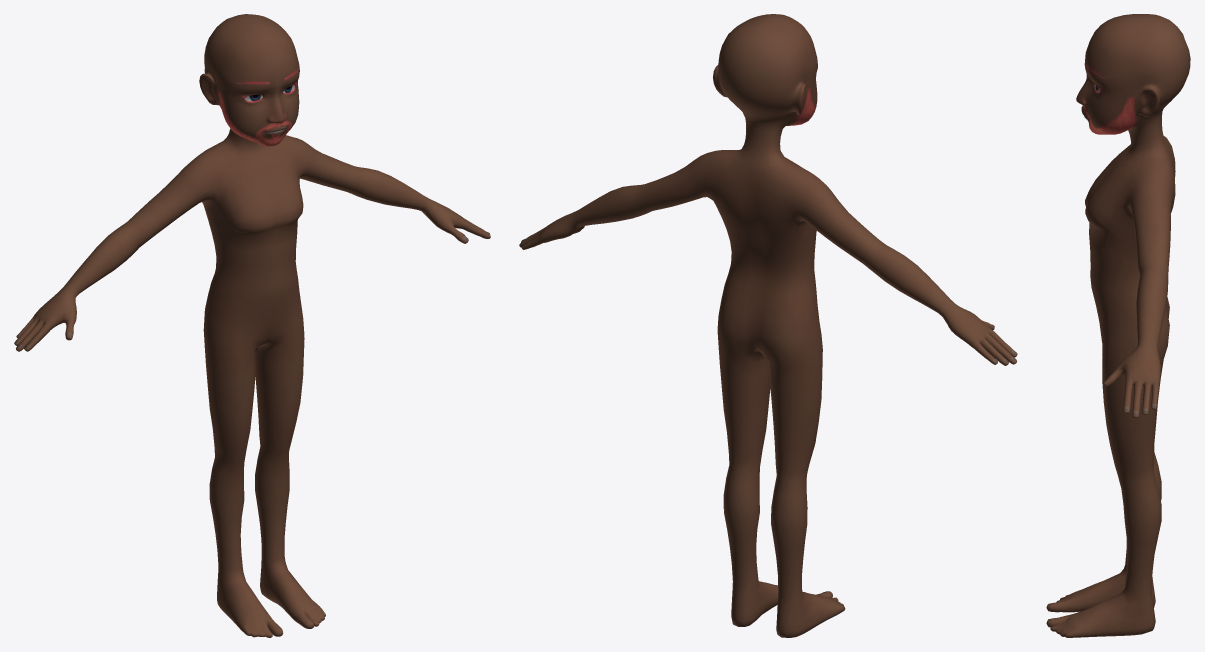
File: frame_0037.glb
The picture shows the model from 3 angles, left to right: view 1: azimuth 30°, elevation 25°; view 2: azimuth 150°, elevation 25°; view 3: azimuth 270°, elevation 25°; orthographic projection. The views are drawn at different scales.
Parts seen in each view (by area): view 1: frame_0037_head_geo; view 2: frame_0037_head_geo; view 3: frame_0037_head_geo.
Boxes of the visible parts, x1,y1,x2,y2 form: frame_0037_head_geo: [14, 14, 490, 637]; frame_0037_head_geo: [519, 14, 1017, 637]; frame_0037_head_geo: [1046, 14, 1190, 637].
Size of the model in its own units: 1.28 by 1.5 by 0.3253.
Materials: 3 (3 with a texture image).
